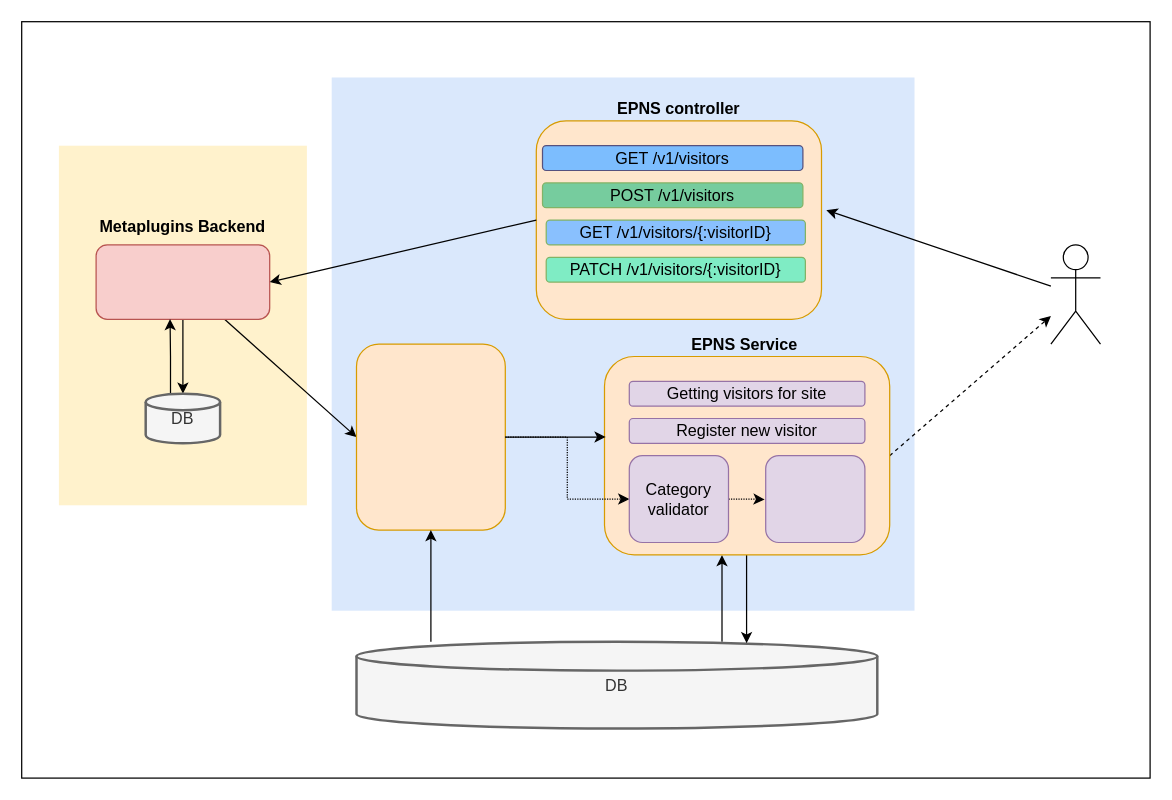
The diagram is 1172 pixels wide and 800 high, and some of its shapes have lost their labels. The shapes that lost their labels are listed below. From the top down, each one's box as (x1, y1, x2, y2) in pixels, then its label:
(95, 244, 270, 319): Signed JWT Validator
(1050, 244, 1100, 344): Actor
(355, 343, 505, 530): EPNS Site Registration validator
(764, 454, 865, 542): Patching visitor
